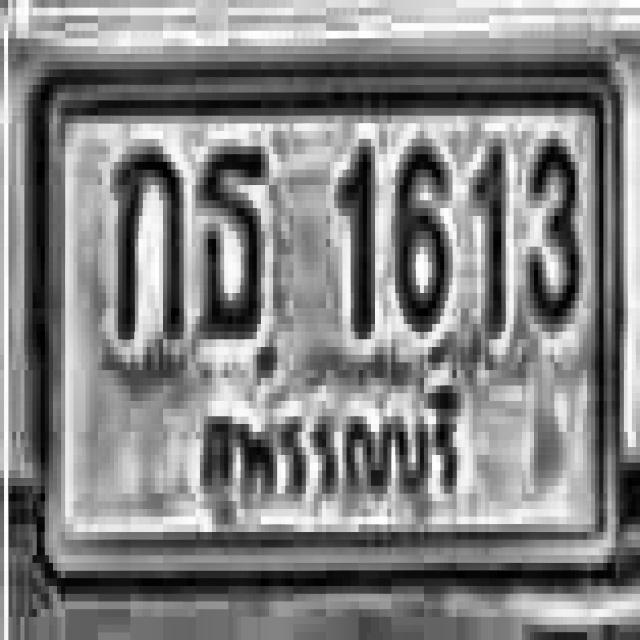license-plate: (36, 66, 622, 569)
